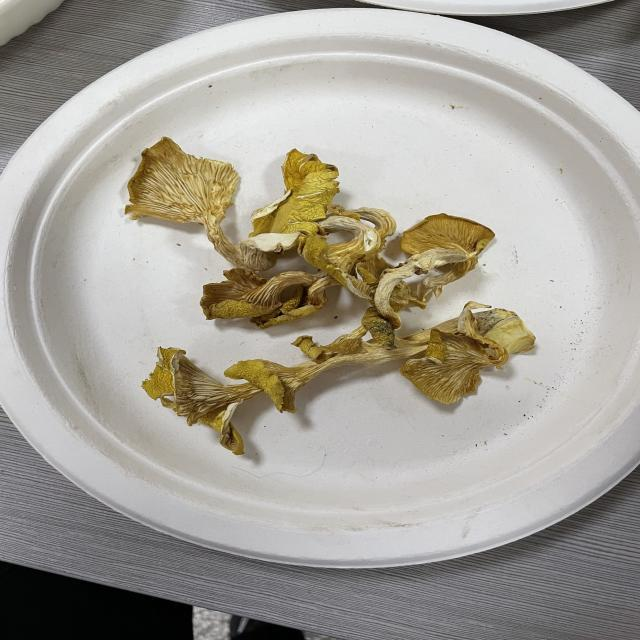Pleurotus citrinopileatus: (181, 78, 607, 394)
